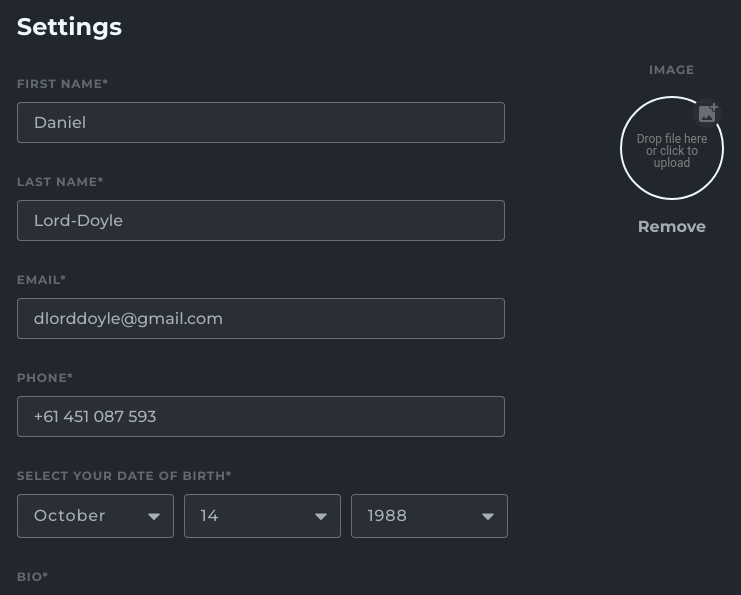
Test: The first name field input › will tell the user that they have typed in an invalid name if the name does not meet the name validator conditions
The image size is (741, 595).
Replace the text in the field named "firstnameinput" with "123456" at (261, 122), box [17,102,505,143]
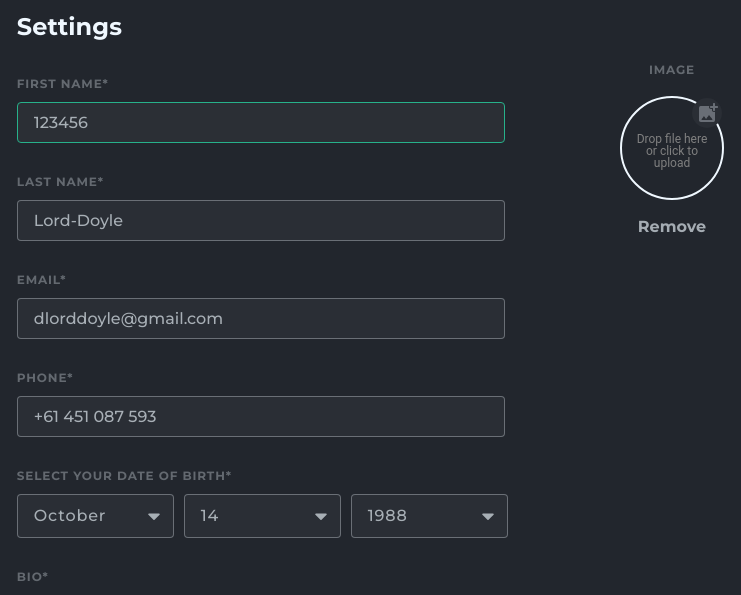
Click the field named "phoneinput" at (261, 416), box [17,396,505,437]
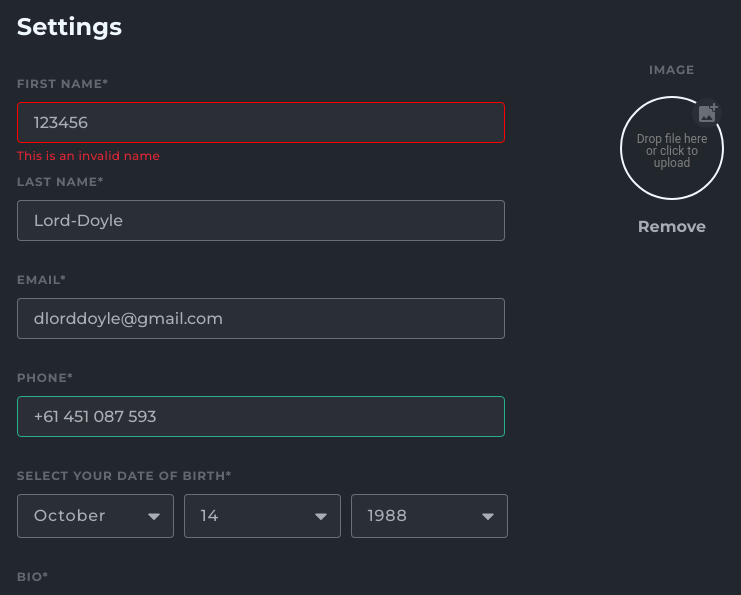
Check: the text with test id "firstNameErrorMessage" reads "This is an invalid name", box [17,148,160,163]
